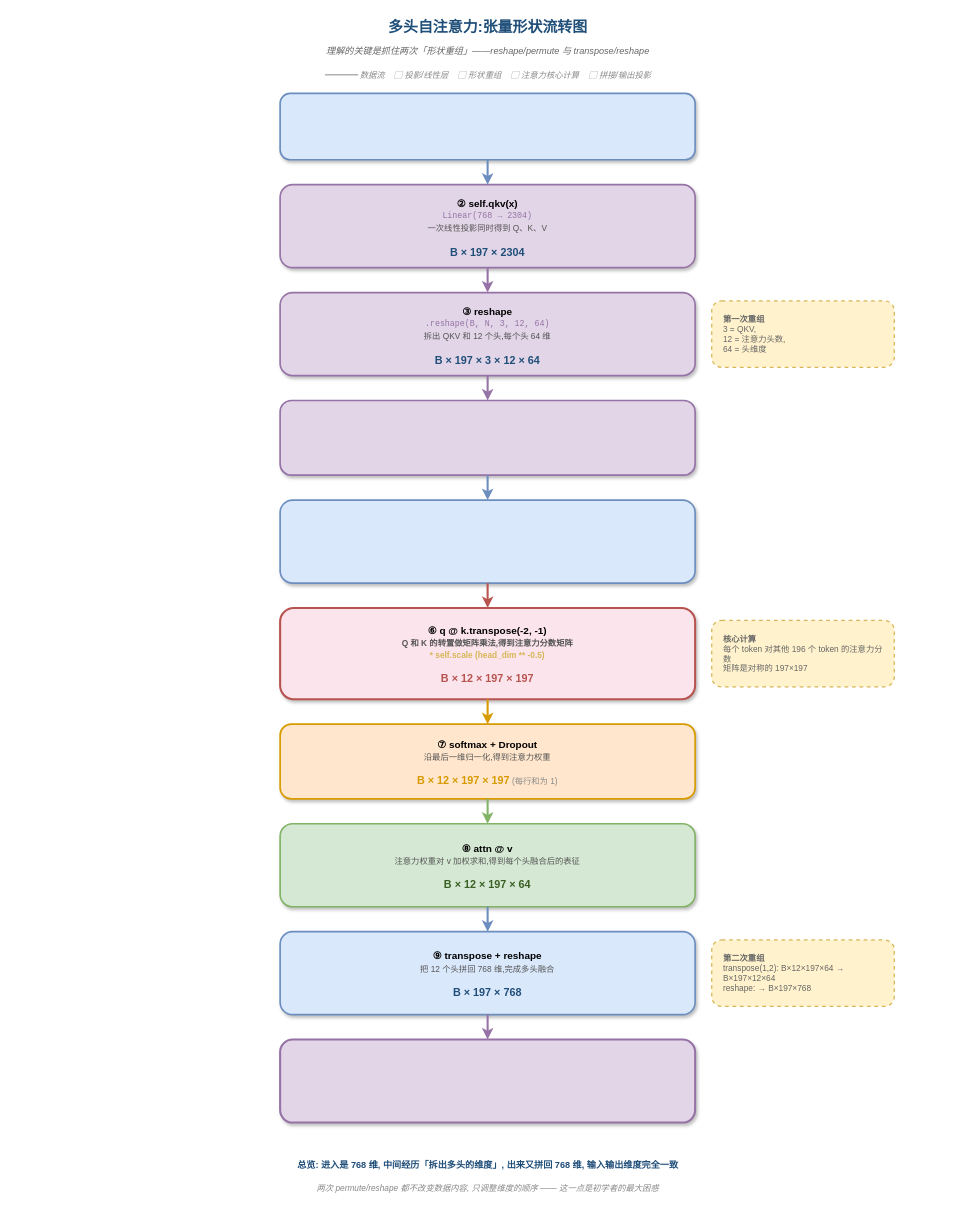
Some shapes in this 974 by 1211 pixel diagram are drawn without their labels. Each missing label, with the centre of its shape:
"① 输入 x 197 个 token 拼接好 Class Token + 位置编码 B × 197 × 768" goes at pixel 488 127.
"④ permute(2, 0, 3, 1, 4) 把「3」(QKV 维)提到最前,方便切片 3 × B × 12 × 197 × 64" goes at pixel 488 438.
"⑤ 切片 q, k, v qkv[0], qkv[1], qkv[2] 三个张量各自独立进入注意力计算 各 B × 12 × 197 × 64" goes at pixel 488 542.
"⑩ self.proj Linear(768 → 768) + Dropout 最终输出投影,残差前准备 B × 197 × 768" goes at pixel 488 1082.
